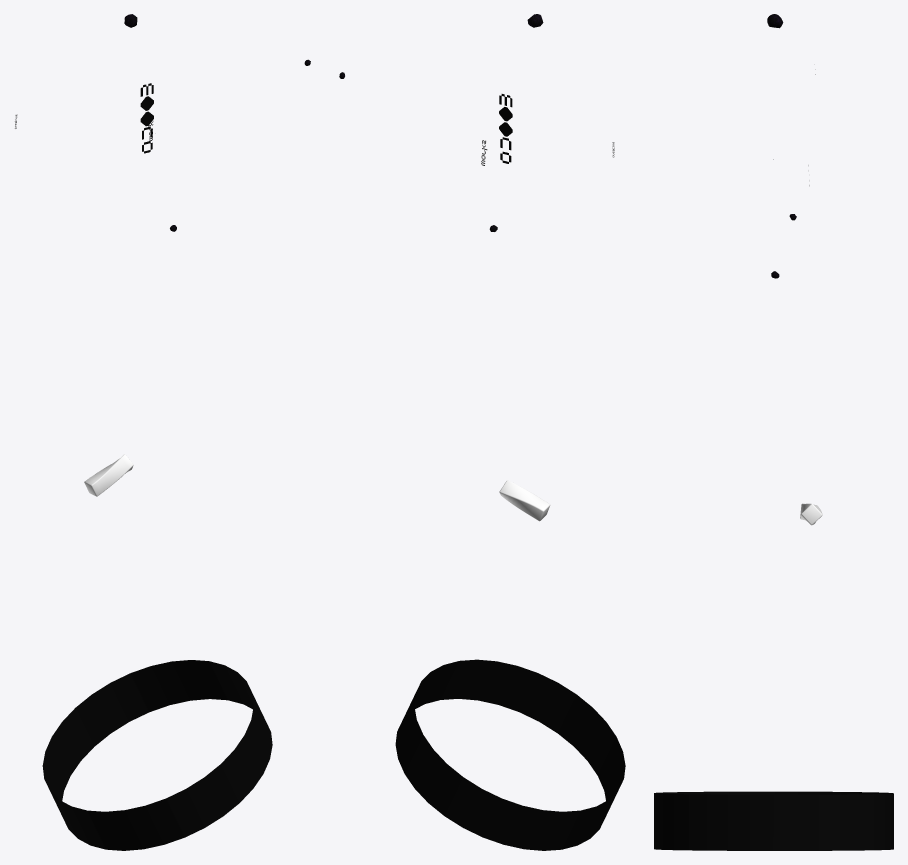
The model's file is section_2v.glb.
The picture shows the model from 3 angles, left to right: view 1: azimuth 30°, elevation 25°; view 2: azimuth 150°, elevation 25°; view 3: azimuth 270°, elevation 25°; orthographic projection. The views are drawn at different scales.
Visible parts, largest first — view 1: Background, TitleContainer; view 2: Background, TitleContainer; view 3: Background.
Boxes of the visible parts, x1,y1,x2,y2 form: Background: [42, 660, 272, 850]; TitleContainer: [84, 454, 133, 496]; Background: [395, 659, 625, 850]; TitleContainer: [499, 480, 550, 521]; Background: [654, 791, 893, 850].
Bounding box in the file's own units: 35.89 × 97.38 × 24.59.
7 materials, 4 textured.
